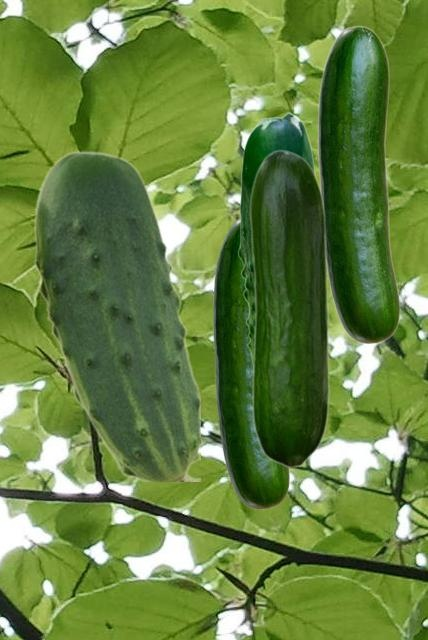cucumber: (34, 150, 199, 480), (317, 25, 399, 343), (249, 149, 329, 467), (213, 218, 288, 508), (237, 112, 315, 362)
